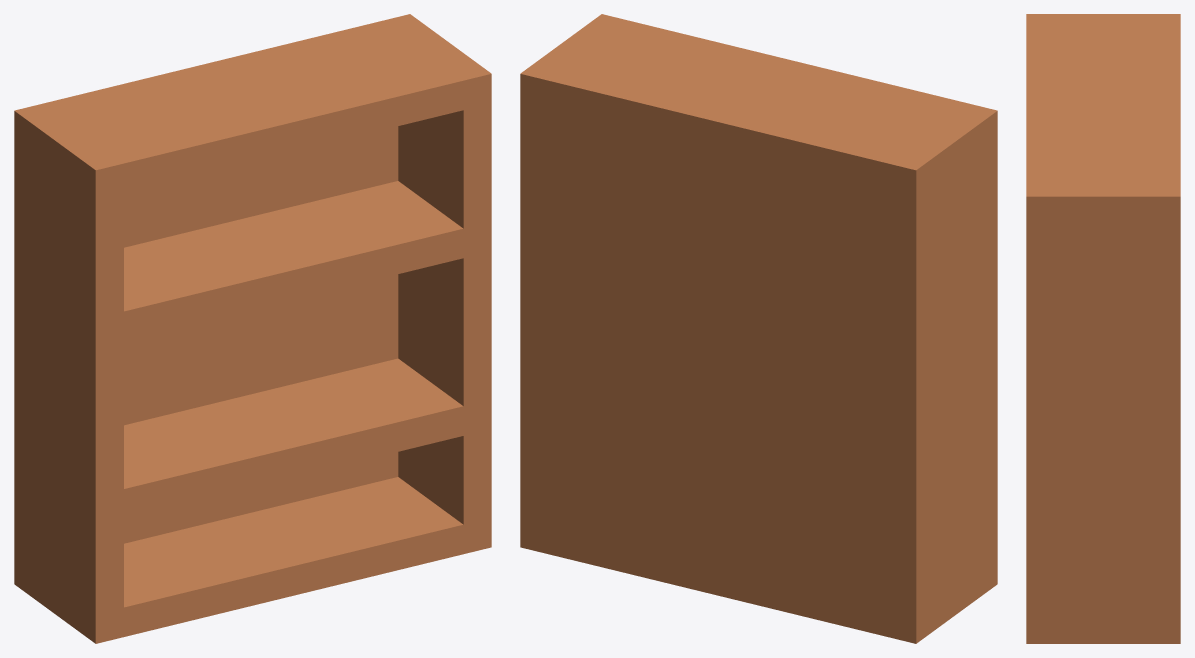
Rendered from CupboardEmpty.obj.
3 renders of one model, left to right at view 1: azimuth 30°, elevation 25°; view 2: azimuth 150°, elevation 25°; view 3: azimuth 270°, elevation 25°, orthographic. The views are drawn at different scales.
Size of the model in its own units: 1.4 by 1.6 by 0.5.
Materials: 1 (1 with a texture image).
